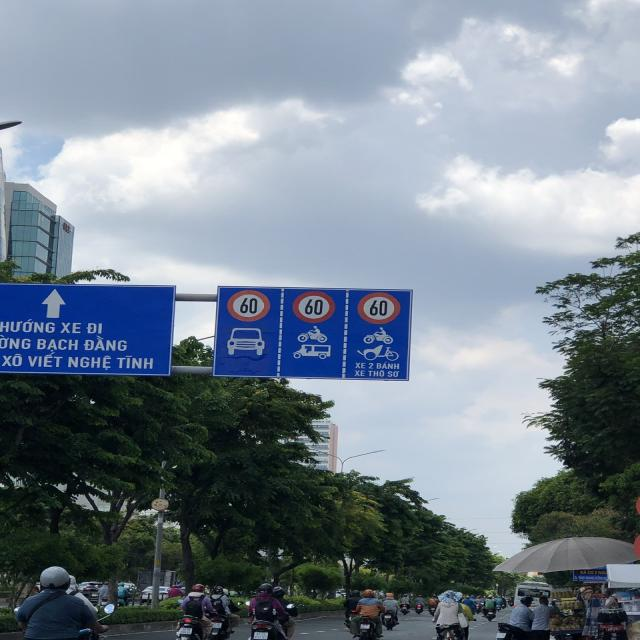Bien bao toc do toi da cho phep: (352, 287, 409, 324), (290, 284, 340, 326), (222, 287, 270, 325)
